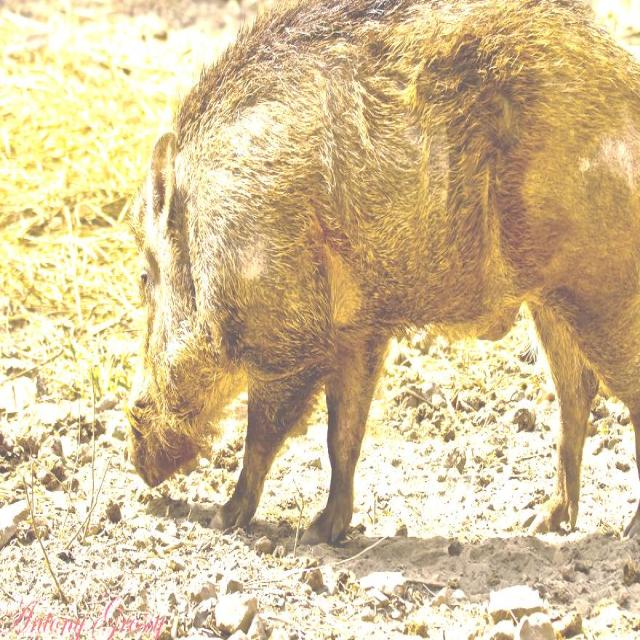pig: (129, 4, 640, 542)
